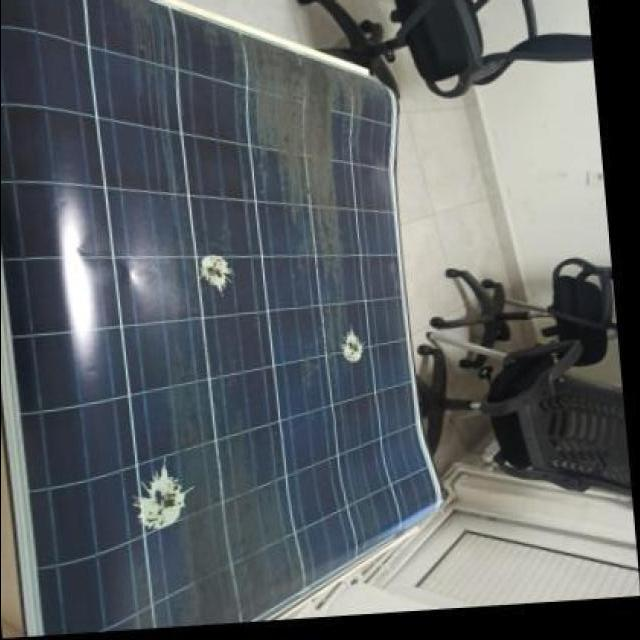soiled: (4, 3, 432, 634)
